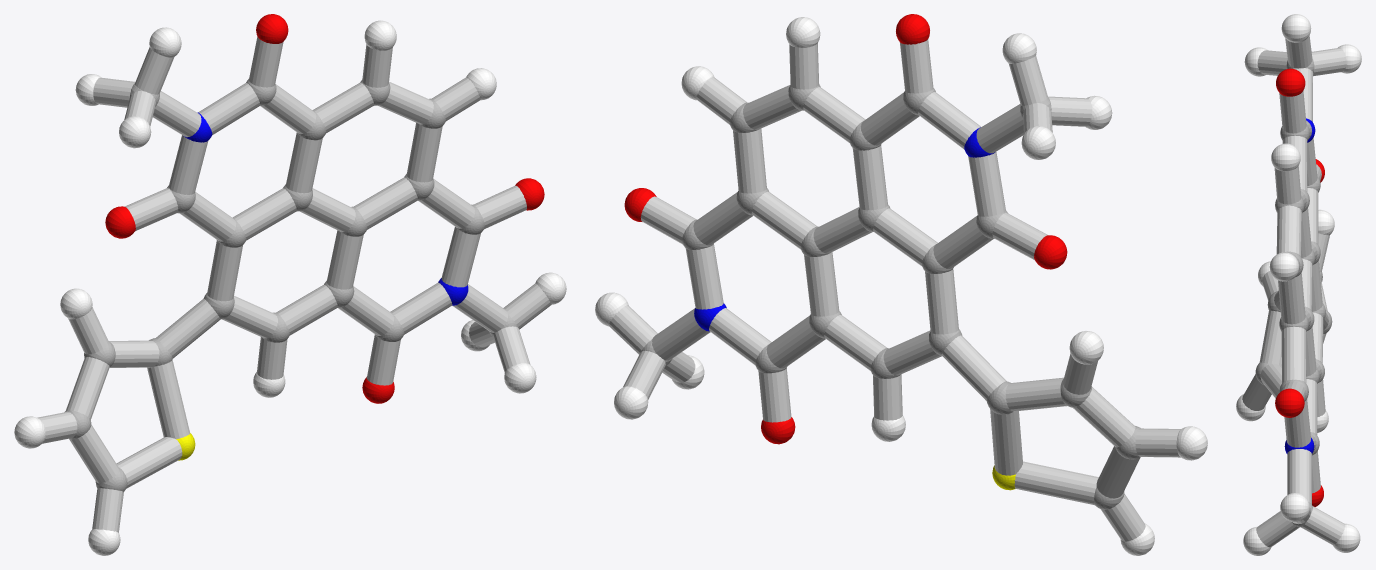
The model's file is Dimethyl_Naphthalene_Dicarboximide_Phi_25_Theta_10_Thiophene.glb.
The picture shows the model from 3 angles, left to right: view 1: azimuth 30°, elevation 25°; view 2: azimuth 150°, elevation 25°; view 3: azimuth 270°, elevation 25°; orthographic projection. The views are drawn at different scales.
Visible parts, largest first — view 1: grp14119, grp7241, grp1, grp12309, grp11585; view 2: grp14119, grp7241, grp1, grp12309, grp11585; view 3: grp14119, grp7241, grp1, grp12309, grp11585.
Part boxes in pixels (x1,y1,x2,y2): grp14119: [37, 37, 551, 532]; grp7241: [14, 20, 566, 555]; grp1: [64, 79, 517, 491]; grp12309: [105, 14, 544, 403]; grp11585: [184, 112, 468, 305]; grp14119: [609, 39, 1180, 541]; grp7241: [595, 17, 1207, 555]; grp1: [641, 84, 1140, 509]; grp12309: [624, 14, 1067, 444]; grp11585: [694, 127, 995, 331]; grp14119: [1242, 35, 1346, 547]; grp7241: [1236, 14, 1361, 555]; grp1: [1255, 58, 1332, 527]; grp12309: [1275, 68, 1324, 506]; grp11585: [1284, 118, 1315, 453].
Bounding box in the file's own units: 11.98 × 9.94 × 2.56.
